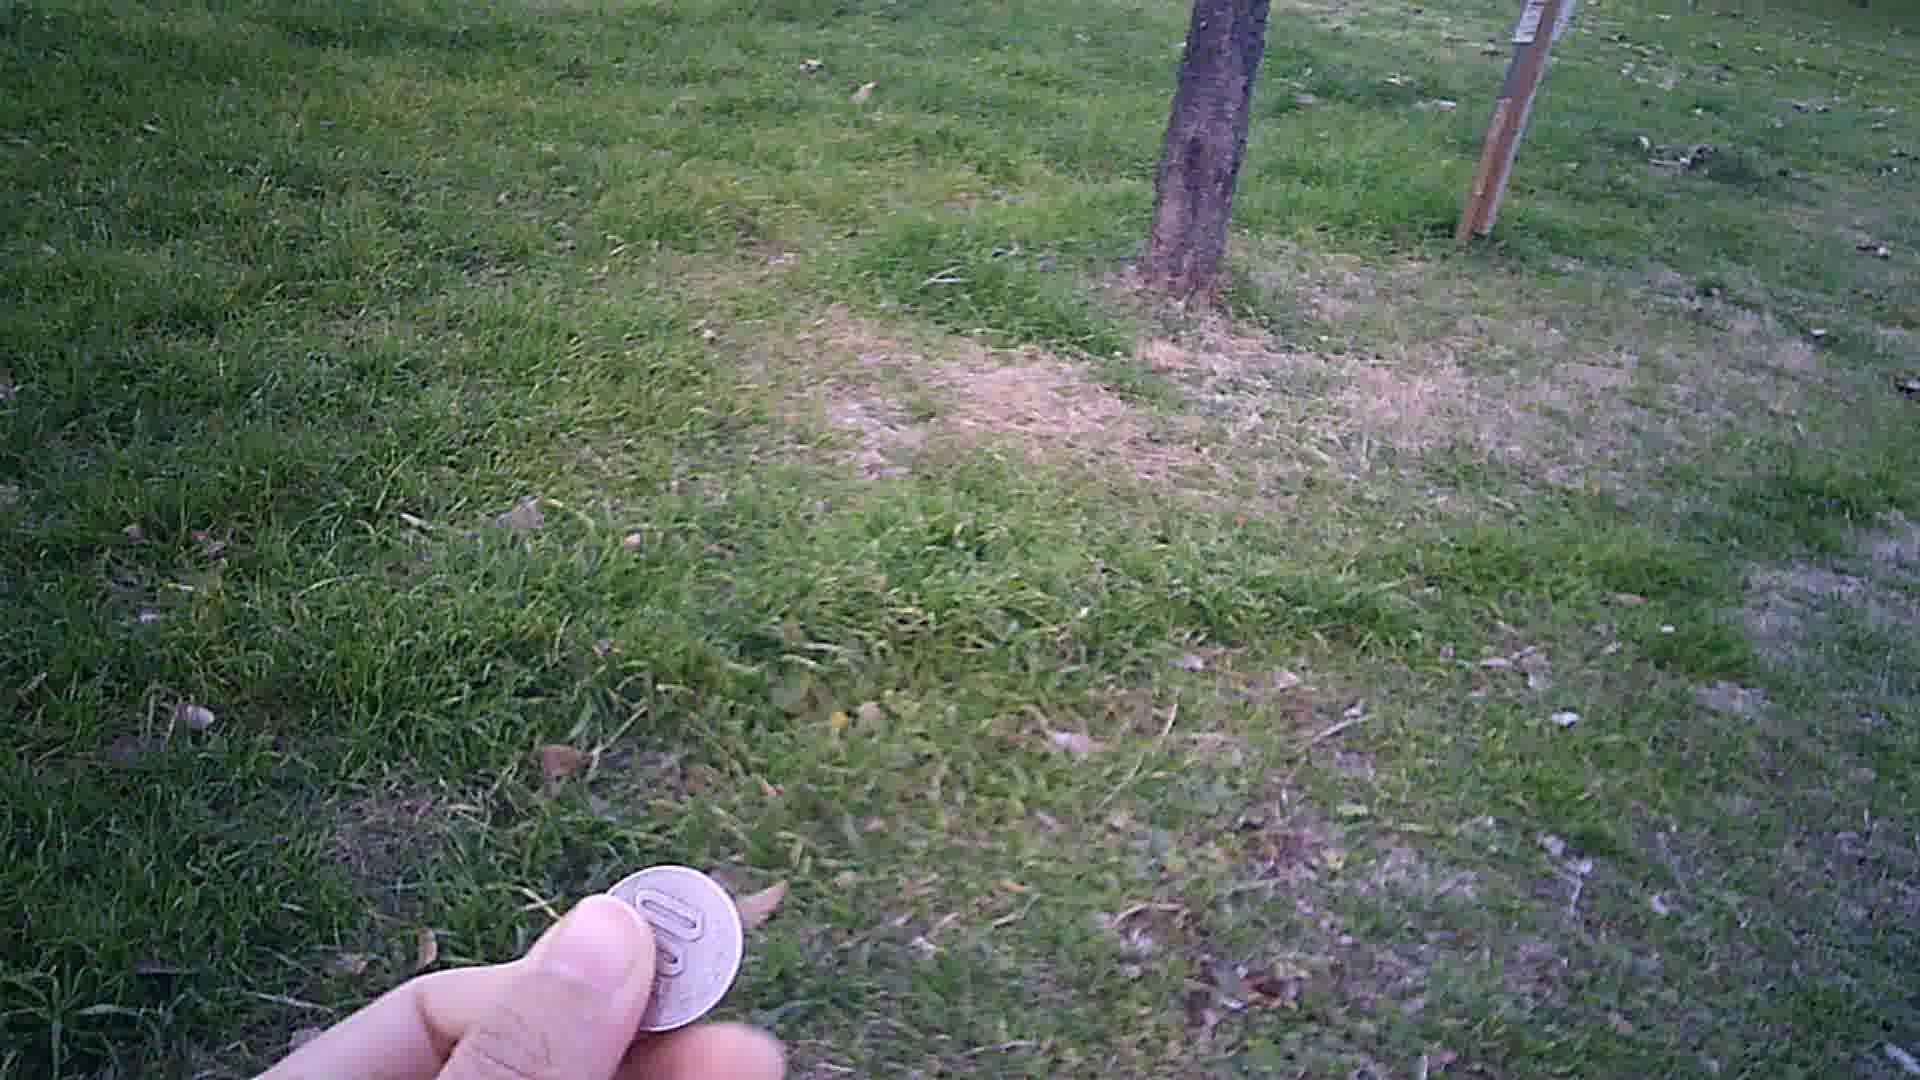100 Yen: (588, 855, 742, 1036)
